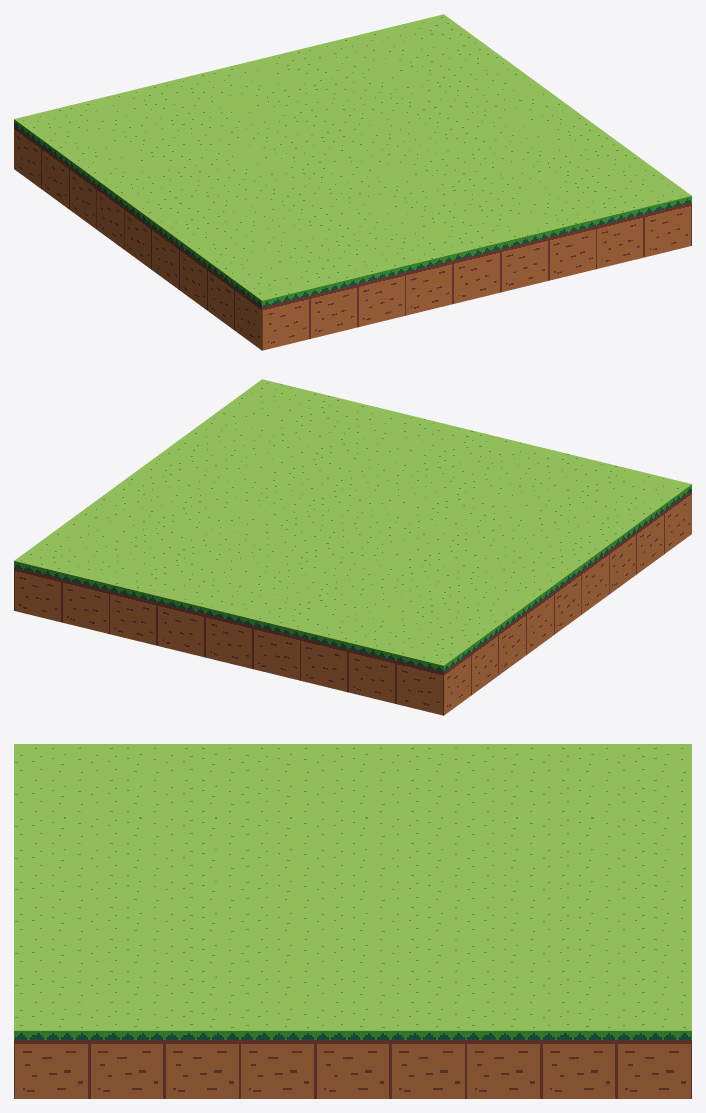
The model's file is Ground.fbx.
3 views of the same model, one above another, from view 1: azimuth 30°, elevation 25°; view 2: azimuth 150°, elevation 25°; view 3: azimuth 270°, elevation 25° (orthographic). The views are drawn at different scales.
Visible parts, largest first — view 1: wallEarth01__1__6; view 2: wallEarth01__1__6; view 3: wallEarth01__1__6.
Boxes of the visible parts, x1,y1,x2,y2 form: wallEarth01__1__6: (14,14,691,350); wallEarth01__1__6: (14,379,691,715); wallEarth01__1__6: (14,744,691,1098).
Size of the model in its own units: 900 by 100 by 900.
